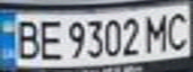0: (103, 16, 124, 58)
2: (121, 14, 145, 56)
3: (84, 17, 106, 60)
9: (63, 17, 87, 61)
B: (9, 16, 42, 61)
C: (163, 7, 193, 52)
E: (33, 17, 63, 62)
M: (142, 9, 172, 53)
